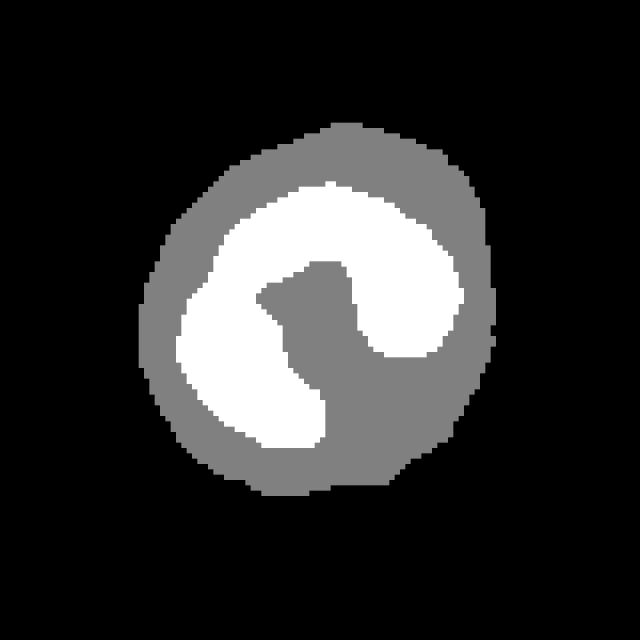WBC: (118, 106, 518, 506)
